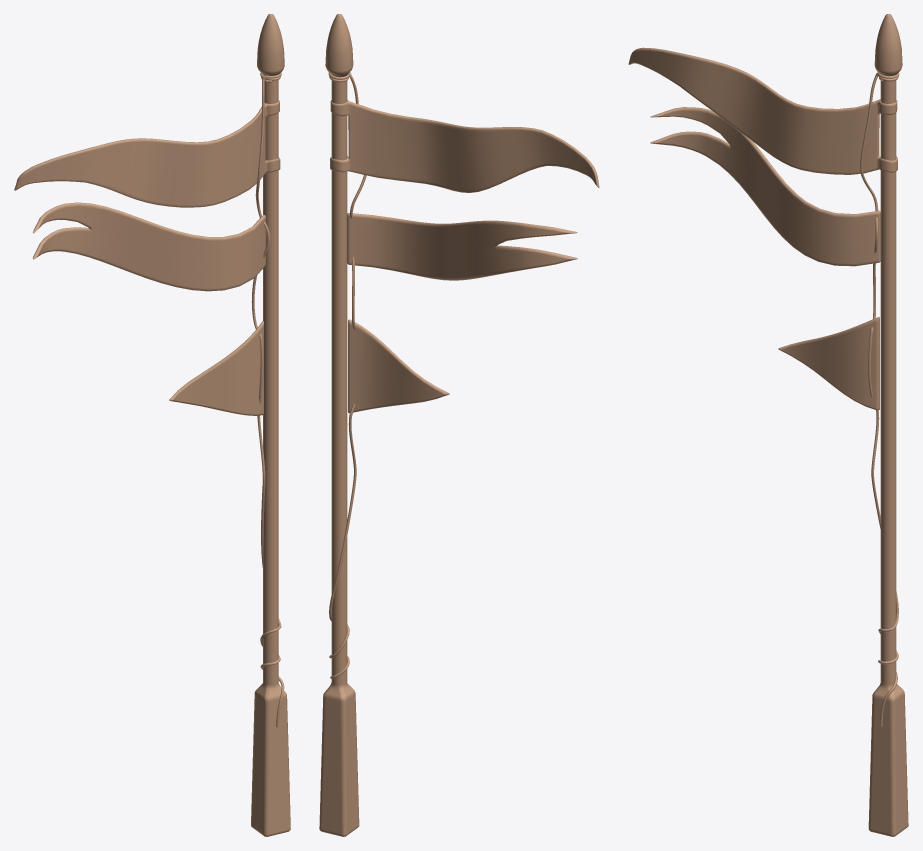
The model's file is flags.FBX.
The picture shows the model from 3 angles, left to right: view 1: azimuth 30°, elevation 25°; view 2: azimuth 150°, elevation 25°; view 3: azimuth 330°, elevation 25°; orthographic projection.
Visible parts, largest first — view 1: pole_mesh; view 2: pole_mesh; view 3: pole_mesh.
Boxes of the visible parts, <box> form: pole_mesh: <box>14,14,290,836</box>; pole_mesh: <box>319,14,599,836</box>; pole_mesh: <box>628,14,908,836</box>.
Bounding box in the file's own units: 55.57 × 159 × 10.48.
